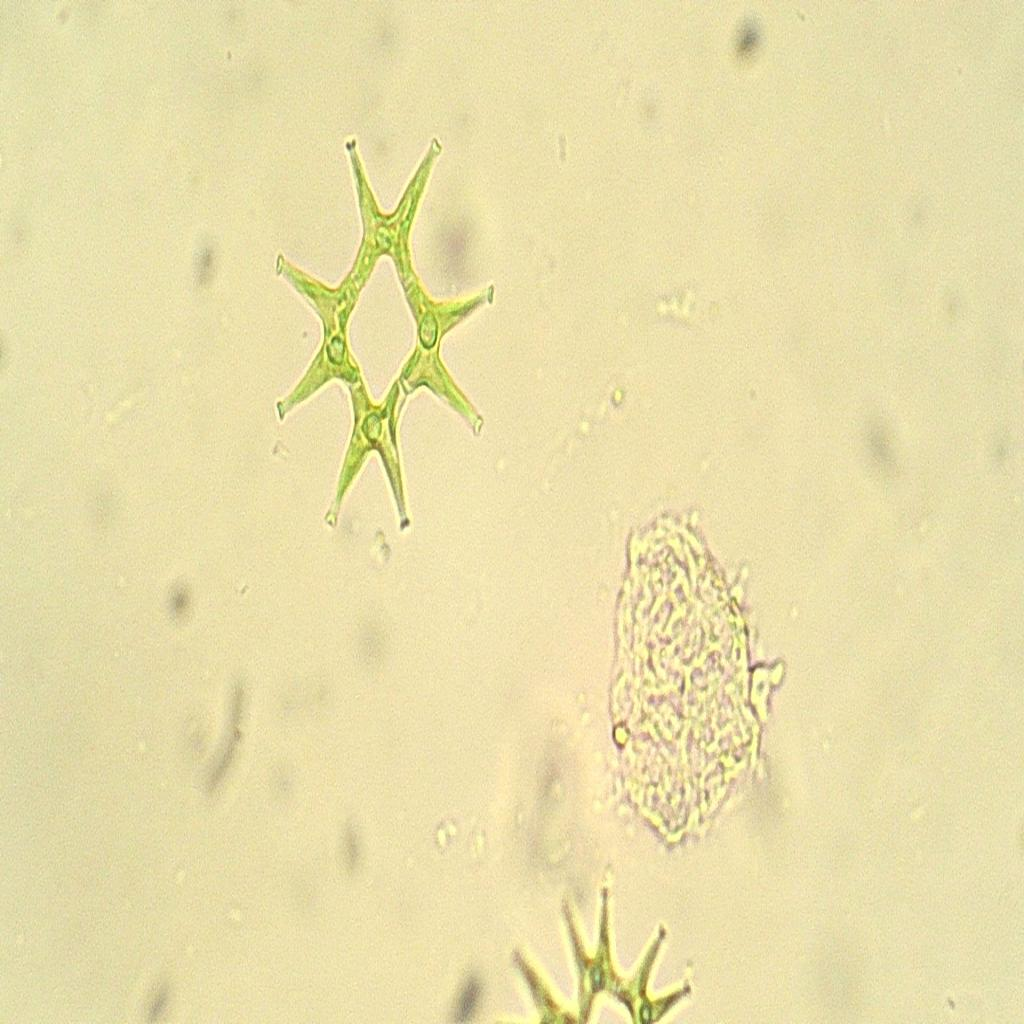Pediastrum_10: (254, 116, 502, 554)
